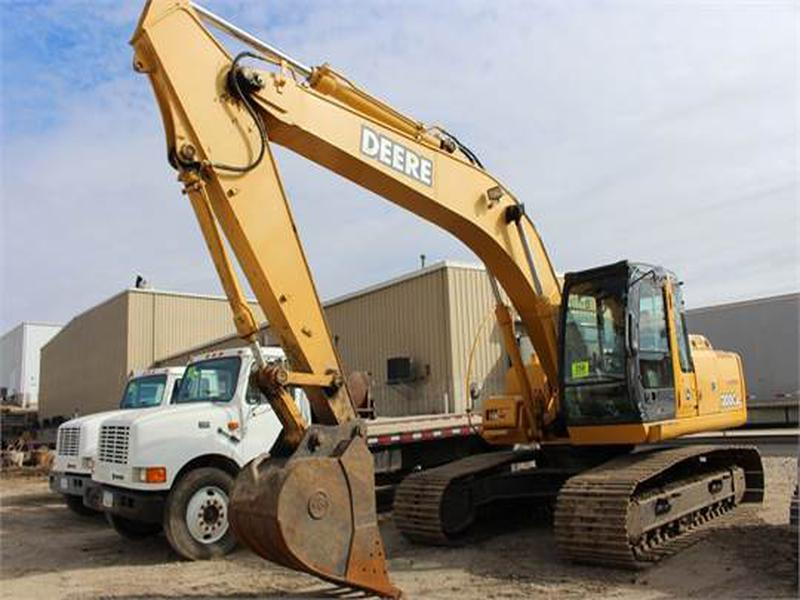shovel: (124, 2, 768, 600)
